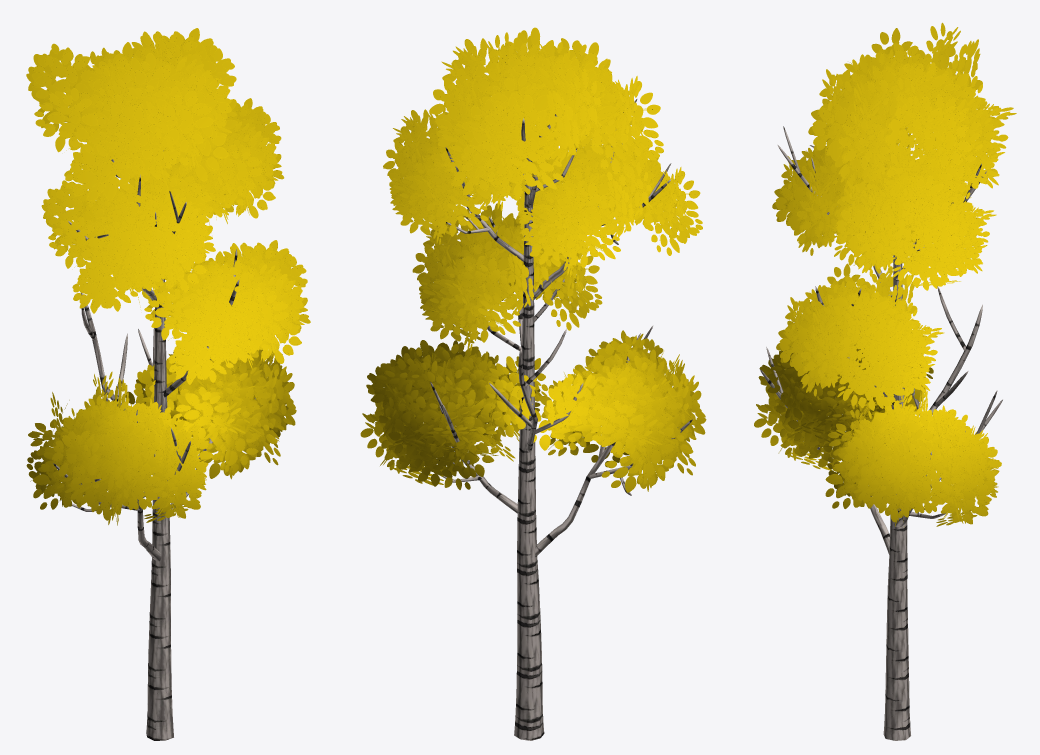
The model's file is BirchTree_2.glb.
The picture shows the model from 3 angles, left to right: view 1: azimuth 30°, elevation 25°; view 2: azimuth 150°, elevation 25°; view 3: azimuth 270°, elevation 25°; orthographic projection. The views are drawn at different scales.
Parts seen in each view (by area): view 1: BirchTree_2; view 2: BirchTree_2; view 3: BirchTree_2.
Part boxes in pixels (left/top/right/bottom): BirchTree_2: left=26, top=28, right=310, bottom=740; BirchTree_2: left=360, top=27, right=706, bottom=740; BirchTree_2: left=754, top=22, right=1016, bottom=740.
Bounding box in the file's own units: 3.35 × 7.57 × 2.81.
Materials: 2 (2 with a texture image).
